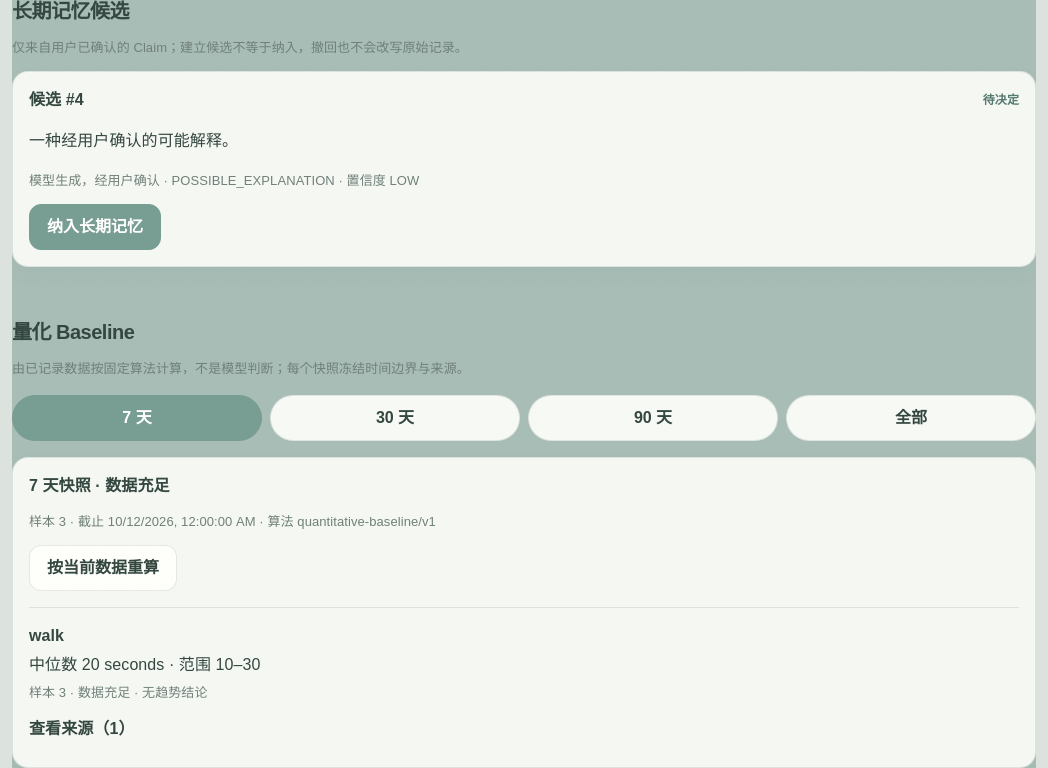
it: memory and baseline closure › keeps manual, memory and quantitative data distinct and drills into frozen evidence
(page scrolled)
expect the text "一种经用户确认的可能解释。" is shown: met, box [29,132,238,149]
expect the text "样本 3" is shown: met, box [29,514,436,529]
Click the heading "查看来源（1）" at point(82, 728), box [29,720,134,737]
(page scrolled)
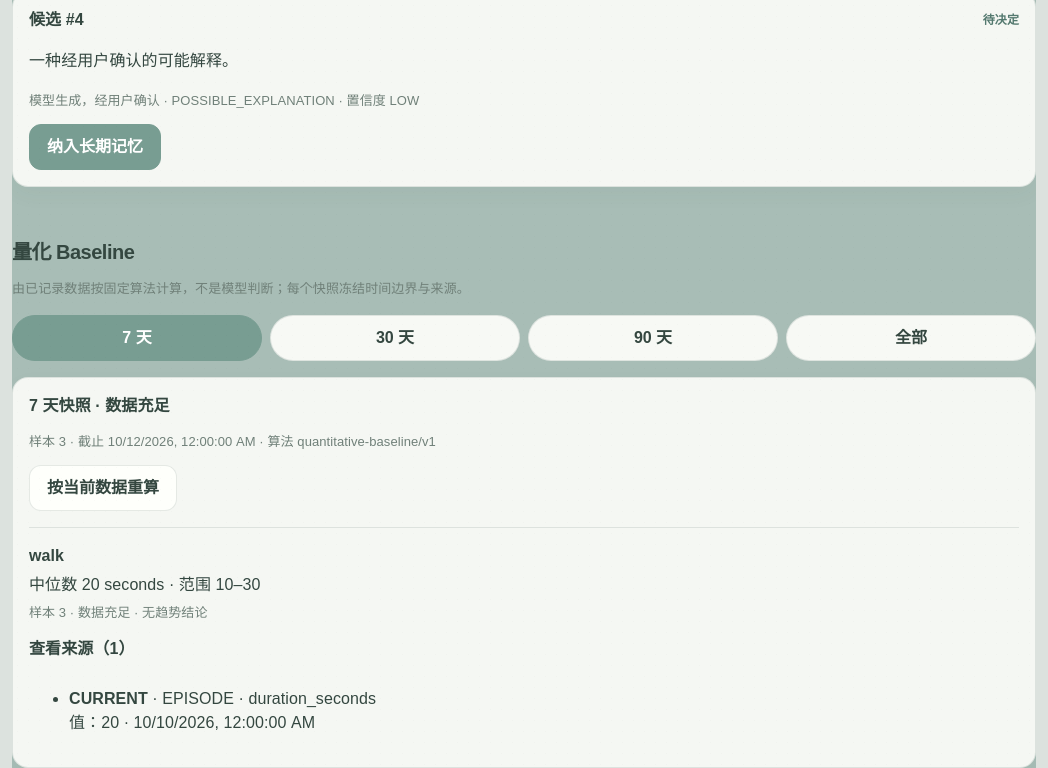
expect the list item "EPISODE · duration_seconds" is shown: met, box [69,690,376,731]
